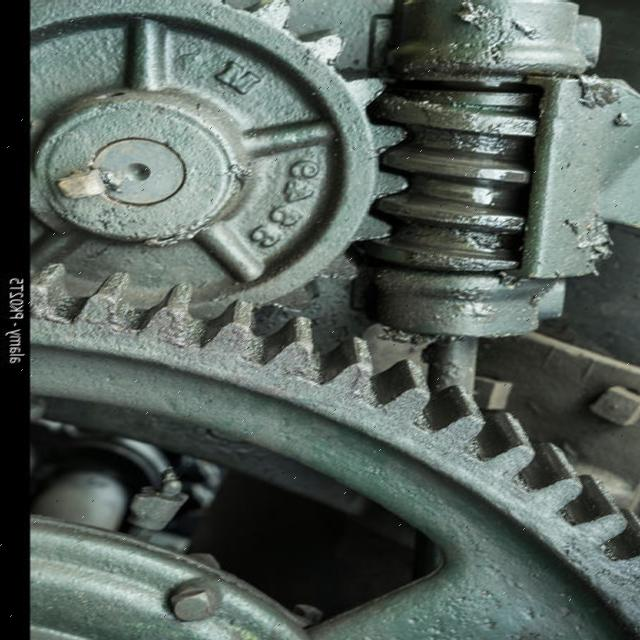Gear: (30, 257, 640, 640), (30, 0, 412, 325), (363, 90, 543, 284)
